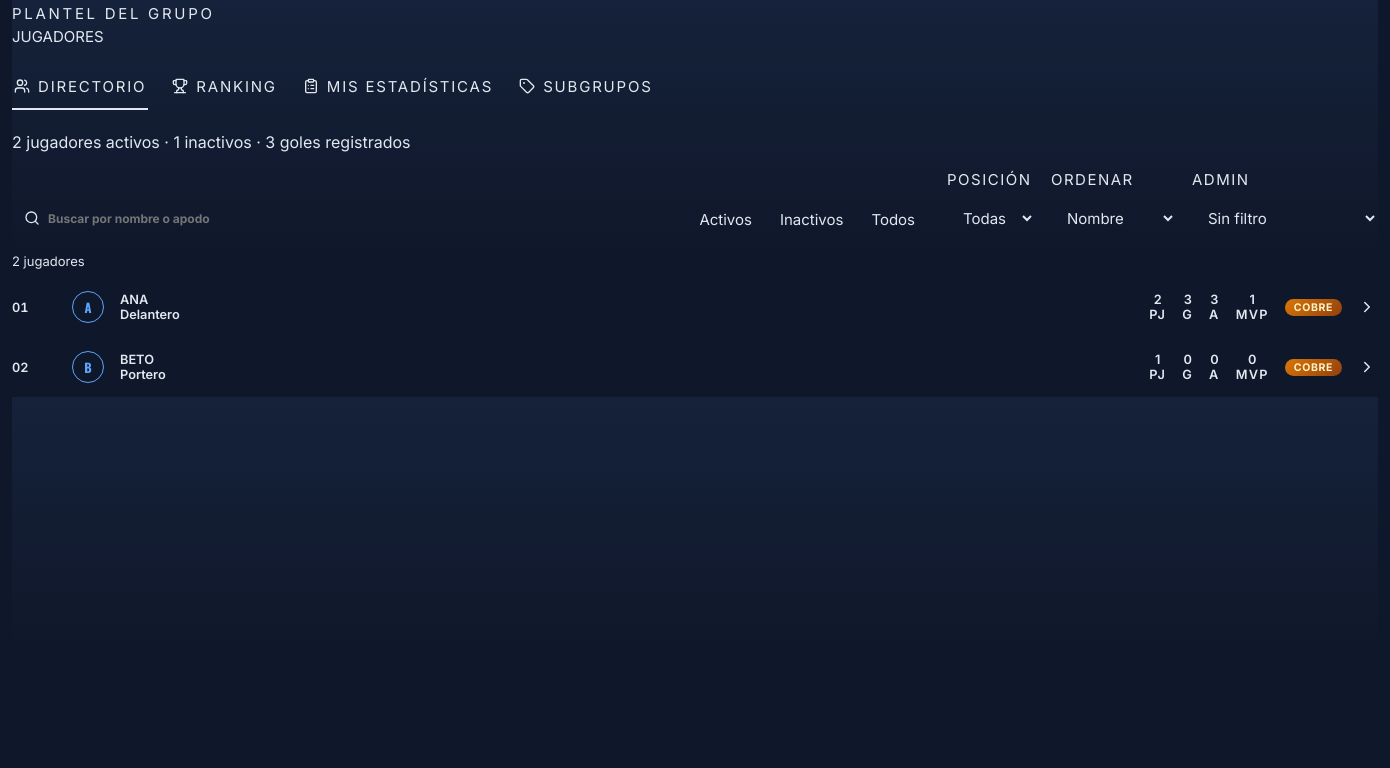
PlayersPage › admins see private data and use the real member handler
Later steps or results of the test are not shown.
Click the button "02 B Beto Portero 1 PJ 0 G 0 A 0 MVP Cobre": (88, 367) [12,337,1378,397]
(page scrolled)
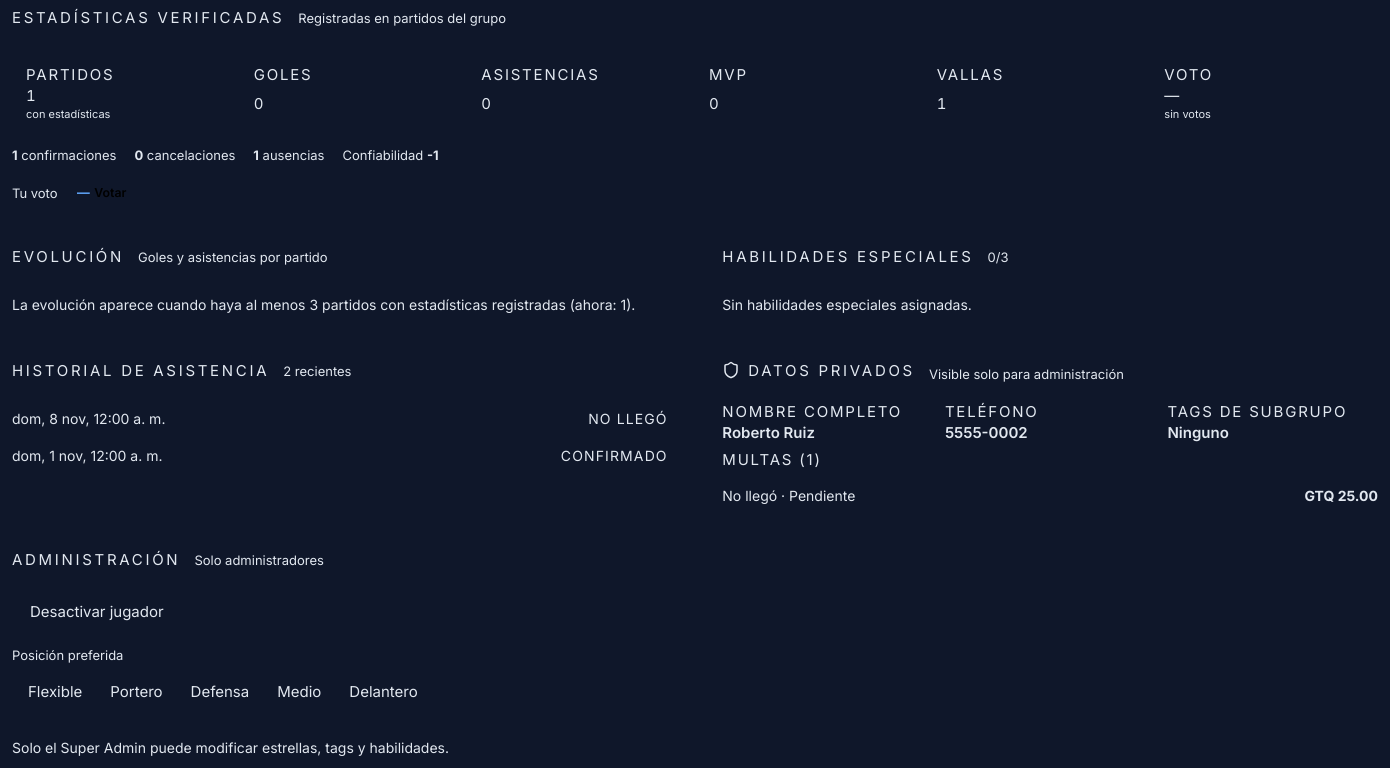
Check: the text "5555-0002" is shown, box [945,423,1028,442]
Check: the heading "Multas (1)" is shown, box [722,450,822,469]
